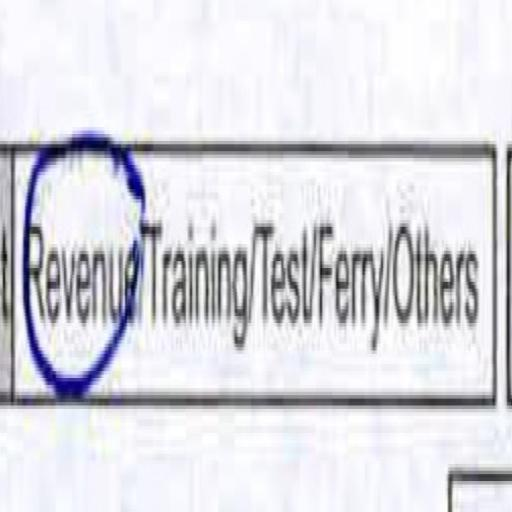check: (11, 38, 138, 457)
